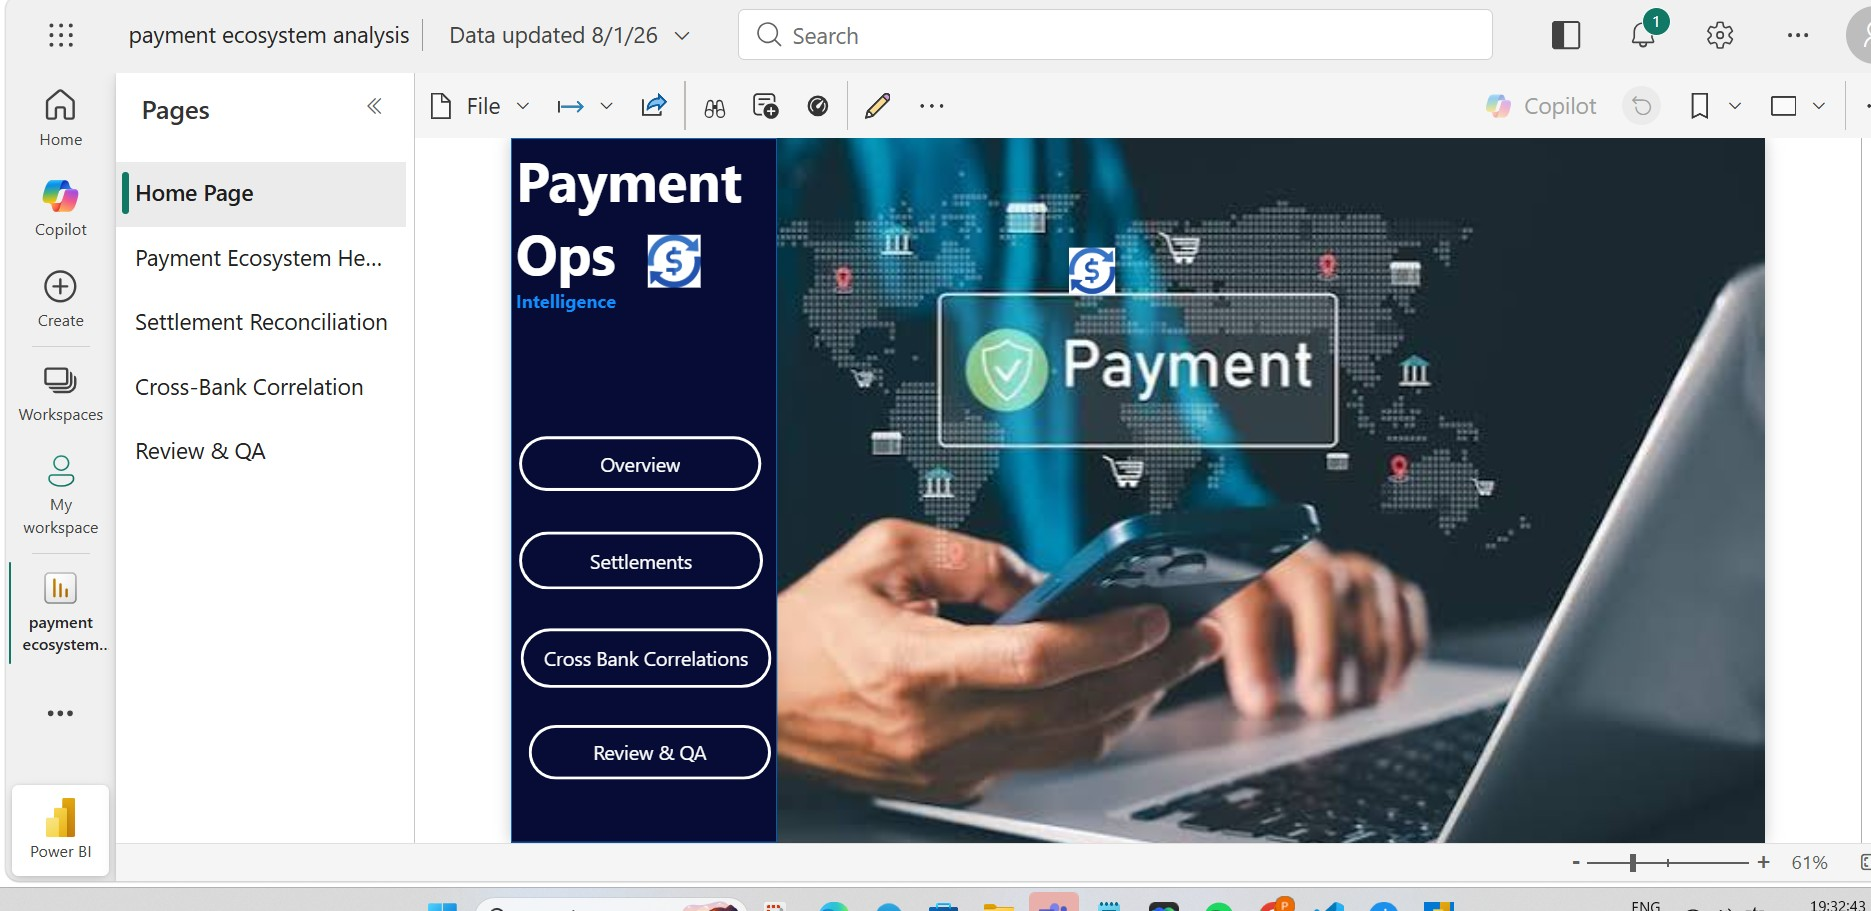

The page's visual inventory and layout, read from the dashboard file:
{"tool":"powerbi","page":{"name":"Home Page","canvas":[1280,720],"ordinal":0},"visuals":[{"type":"shape","box":[0,0,271.6,719.2],"z":0,"group":"g1"},{"type":"group","id":"g1","title":"Group 1","box":[0,0,297.8,719.2],"z":0},{"type":"image","box":[550.3,111.4,87.1,47],"z":0,"group":"g2"},{"type":"shape","box":[8.7,304.7,247.3,55.7],"z":1000,"group":"g1"},{"type":"shape","box":[17.4,599,247.3,55.7],"z":1000},{"type":"group","id":"g2","title":"Group 2","box":[550.3,111.4,87.1,47],"z":2000},{"type":"shape","box":[8.7,402.2,249,59.2],"z":2000,"group":"g1"},{"type":"image","box":[113.2,99.3,106.2,54],"z":3000},{"type":"shape","box":[9.2,499.8,256,60.9],"z":3000,"group":"g1"},{"type":"textbox","box":[0,0,297.8,196.8],"z":4000,"group":"g1"}]}

Visuals, with their boxes on the page's 1280x720 design canvas (x1, y1, x2, y2). These are canvas units, not pixel positions in the 1871x911 screenshot, which may show the page scaled, cropped or inside an application window:
shape: (0,0,272,719)
"Group 1" group: (0,0,298,719)
image: (550,111,637,158)
shape: (9,305,256,360)
shape: (17,599,265,655)
"Group 2" group: (550,111,637,158)
shape: (9,402,258,461)
image: (113,99,219,153)
shape: (9,500,265,561)
textbox: (0,0,298,197)
